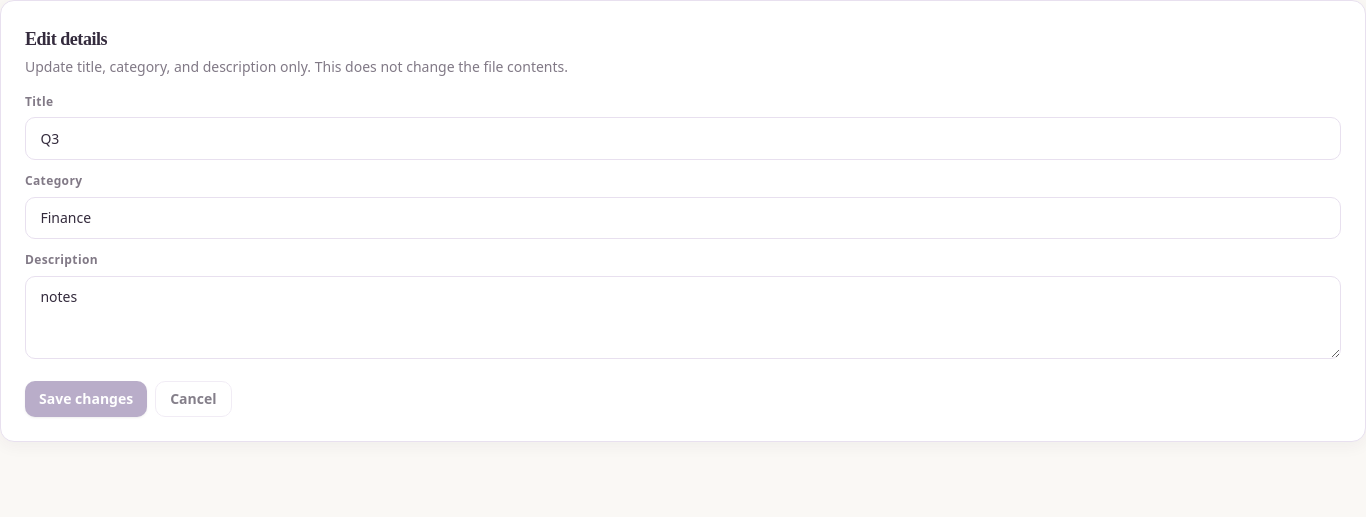
Scenario: document lifecycle UI › metadata form does not claim success before the API responds
Check: the button "Save changes" is shown, box [25,380,147,416]
Step 1. Replace the text in the field labelled "Title" with "Updated" → [683, 139], box [25,117,1341,160]
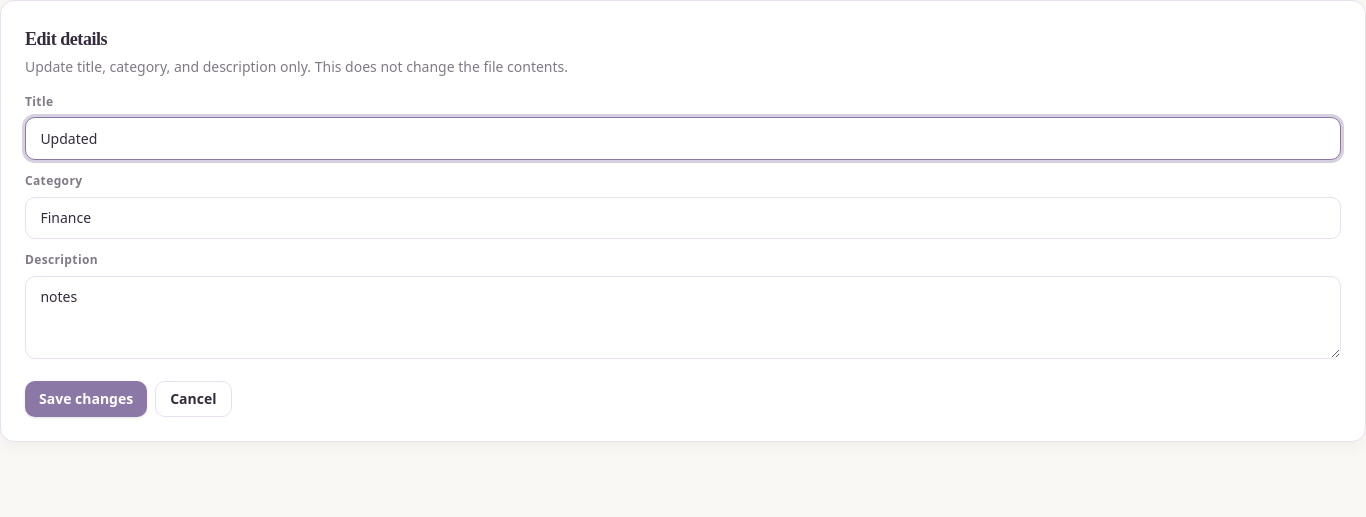
Step 2. Click the button "Save changes" → [86, 398], box [25,380,147,416]
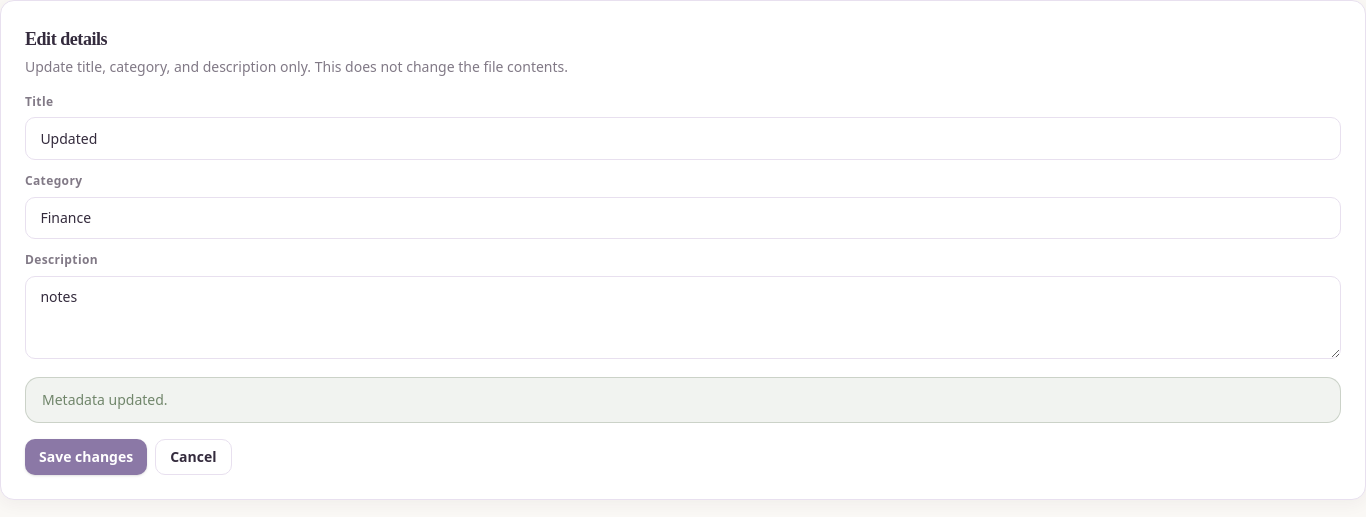
Check: the text "Metadata updated." is shown, box [42,390,168,408]
